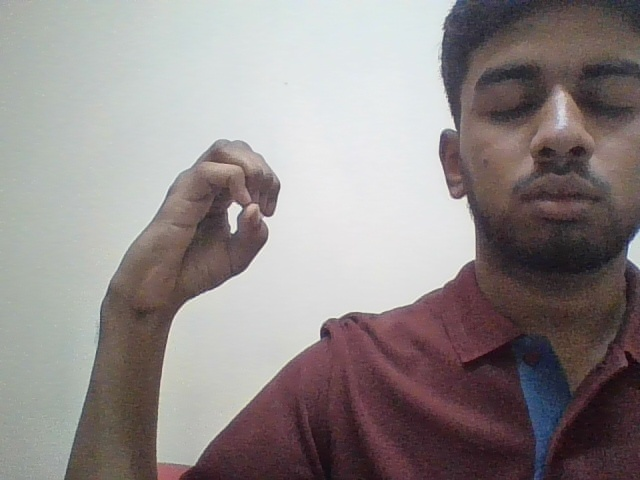O: (102, 127, 301, 312)
